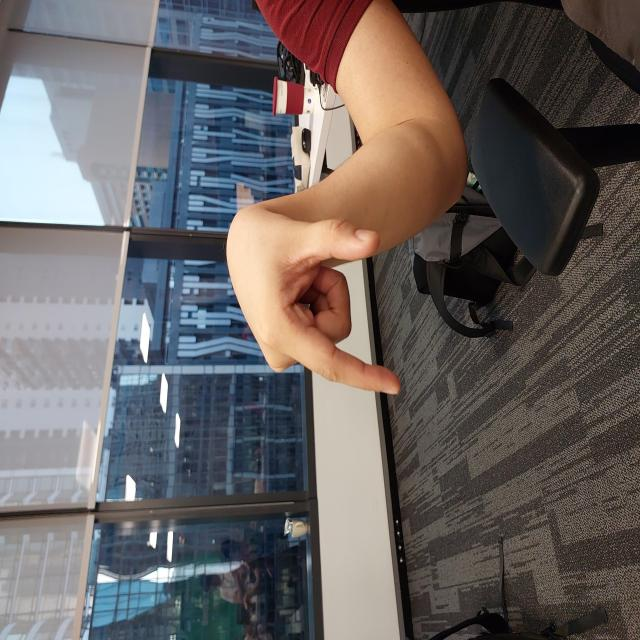Q: (243, 224, 437, 403)
